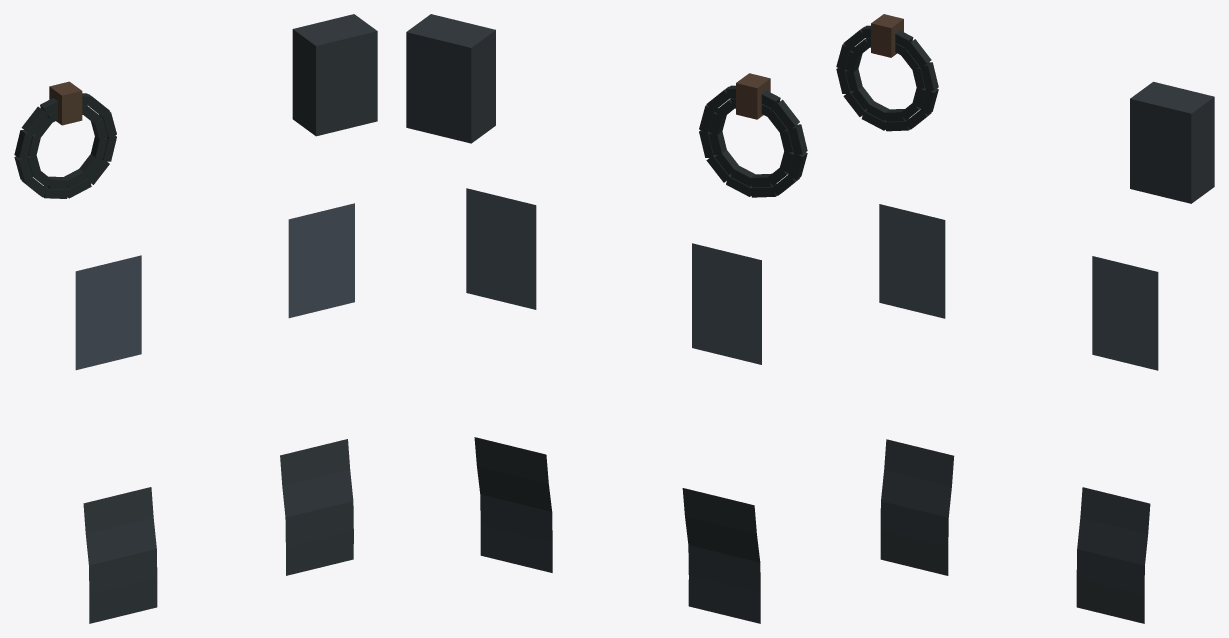
The model's file is lwf_sound_male_overlay_v1.glb.
3 views of the same model, side by side, from view 1: azimuth 30°, elevation 25°; view 2: azimuth 150°, elevation 25°; view 3: azimuth 330°, elevation 25° (orthographic). The views are drawn at different scales.
Visible parts, largest first — view 1: LWF_Sound_Male_Overlay; view 2: LWF_Sound_Male_Overlay; view 3: LWF_Sound_Male_Overlay.
Part boxes in pixels (bbox=[...]): LWF_Sound_Male_Overlay: bbox=[14, 14, 377, 623]; LWF_Sound_Male_Overlay: bbox=[406, 14, 807, 623]; LWF_Sound_Male_Overlay: bbox=[836, 14, 1214, 623].
Size of the model in its own units: 0.3888 by 0.5475 by 0.0659.
1 material, 1 textured.
